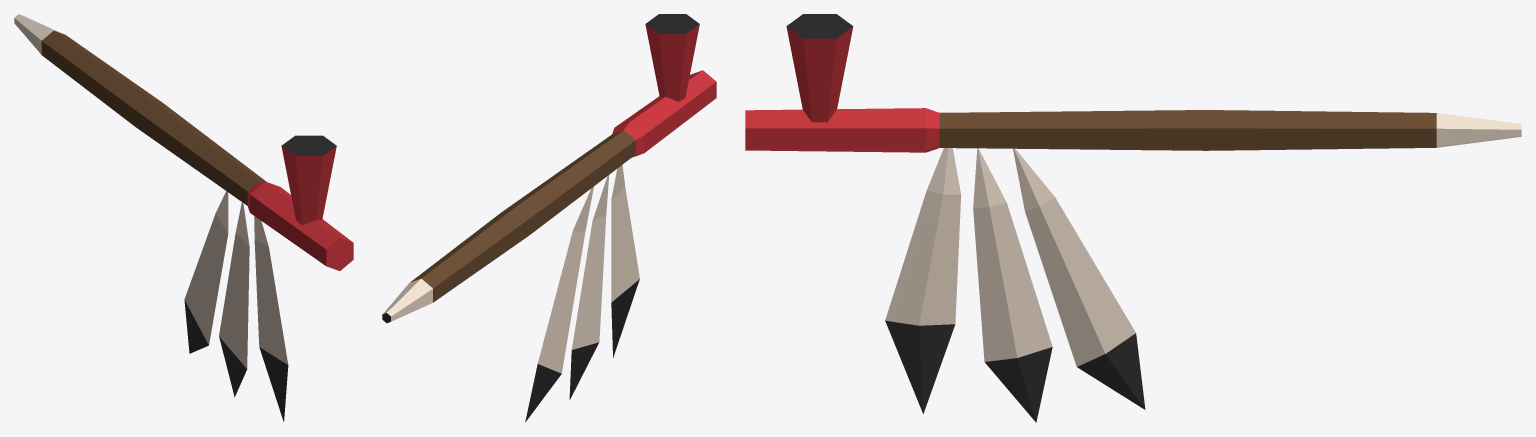
Rendered from western_pipe-peace.fbx.
3 renders of one model, left to right at view 1: azimuth 30°, elevation 25°; view 2: azimuth 150°, elevation 25°; view 3: azimuth 270°, elevation 25°, orthographic. The views are drawn at different scales.
Visible parts, largest first — view 1: western_pipe_peace; view 2: western_pipe_peace; view 3: western_pipe_peace.
Part boxes in pixels (x1,y1,x2,y2): western_pipe_peace: (14,14,353,421); western_pipe_peace: (382,14,716,422); western_pipe_peace: (745,14,1521,422).
Bounding box in the file's own units: 14.94 × 110 × 200.
